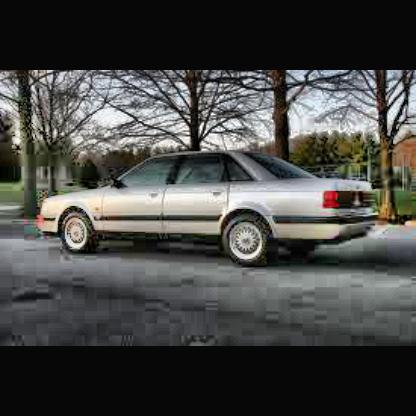Audi V8 Sedan 1994: (37, 150, 374, 271)
